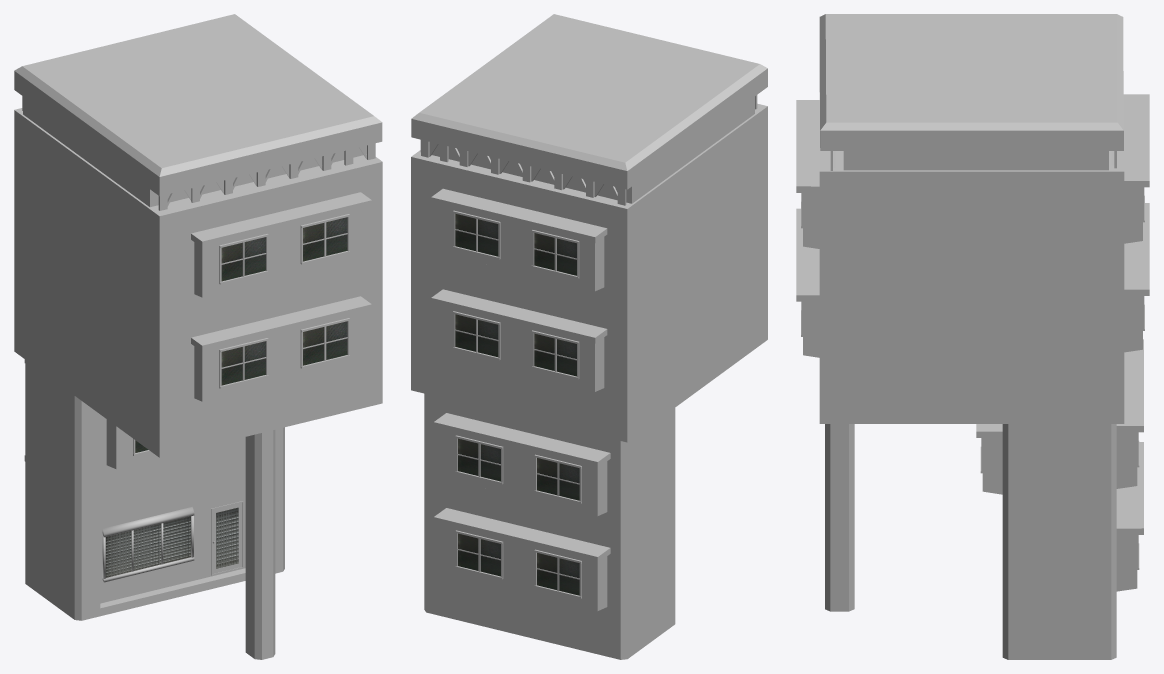
The model's file is bldg_mall_06c.fbx.
3 views of the same model, side by side, from view 1: azimuth 30°, elevation 25°; view 2: azimuth 150°, elevation 25°; view 3: azimuth 270°, elevation 25° (orthographic). The views are drawn at different scales.
Parts seen in each view (by area): view 1: bldg_mall_06c; view 2: bldg_mall_06c; view 3: bldg_mall_06c.
Boxes of the visible parts, <box> form: bldg_mall_06c: <box>14,14,382,659</box>; bldg_mall_06c: <box>411,14,767,659</box>; bldg_mall_06c: <box>796,14,1149,659</box>.
Bounding box in the file's own units: 7.4 × 16.35 × 9.72.
